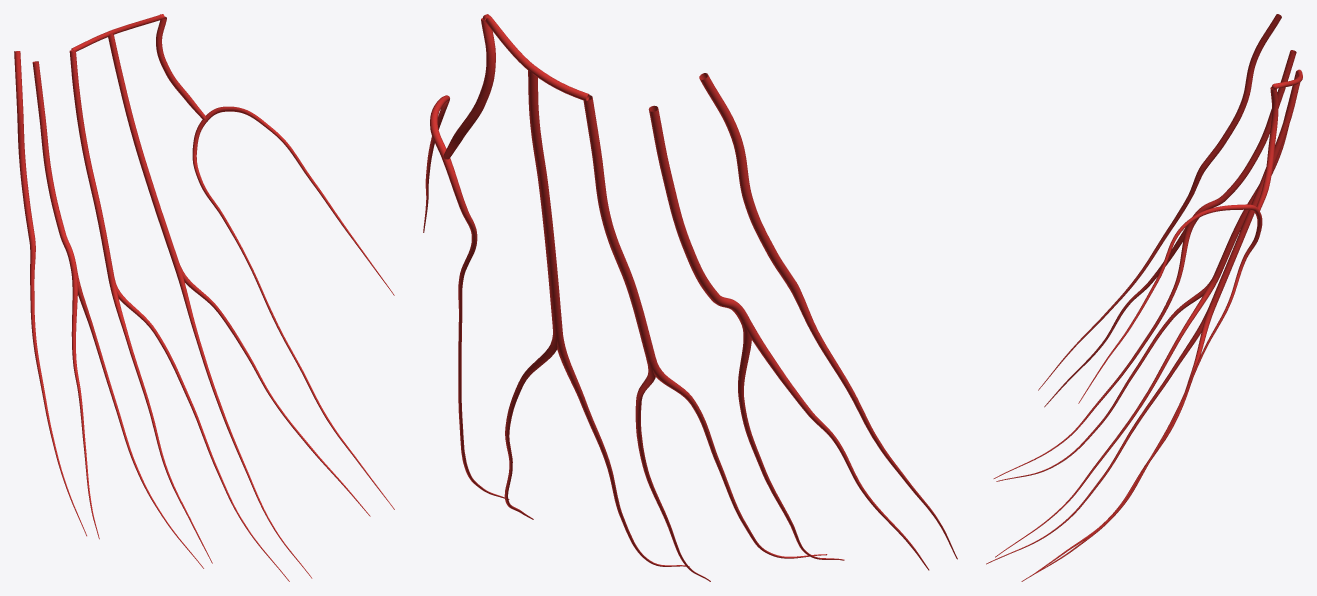
The model's file is circulatorio-dorsal-carpal-anastomosis-l.glb.
3 renders of one model, left to right at view 1: azimuth 30°, elevation 25°; view 2: azimuth 150°, elevation 25°; view 3: azimuth 270°, elevation 25°, orthographic. The views are drawn at different scales.
Parts seen in each view (by area): view 1: Dorsal digital arteries of hand.l, Dorsal metacarpal arteries.l, Dorsal carpal anastomosis.l; view 2: Dorsal digital arteries of hand.l, Dorsal metacarpal arteries.l, Dorsal carpal anastomosis.l; view 3: Dorsal digital arteries of hand.l, Dorsal metacarpal arteries.l.
Boxes of the visible parts, <box> form: Dorsal digital arteries of hand.l: <box>29,106,394,581</box>; Dorsal metacarpal arteries.l: <box>14,16,205,279</box>; Dorsal carpal anastomosis.l: <box>71,14,164,51</box>; Dorsal digital arteries of hand.l: <box>423,95,957,581</box>; Dorsal metacarpal arteries.l: <box>443,18,796,362</box>; Dorsal carpal anastomosis.l: <box>483,14,589,100</box>; Dorsal digital arteries of hand.l: <box>986,164,1262,581</box>; Dorsal metacarpal arteries.l: <box>1192,14,1300,303</box>.
Bounding box in the file's own units: 0.1029 × 0.138 × 0.0829.
